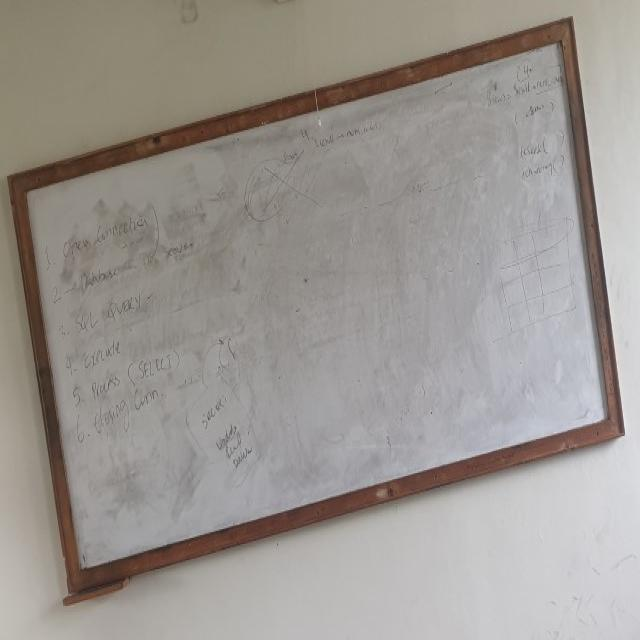White-board: (17, 33, 616, 582)
